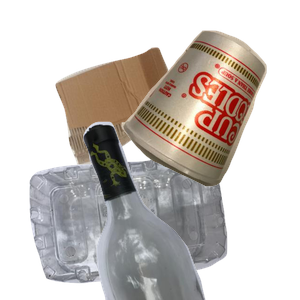cardboard: (53, 45, 221, 204)
glass: (81, 120, 300, 300)
plastic: (27, 152, 247, 300)
trash: (119, 28, 300, 207)
